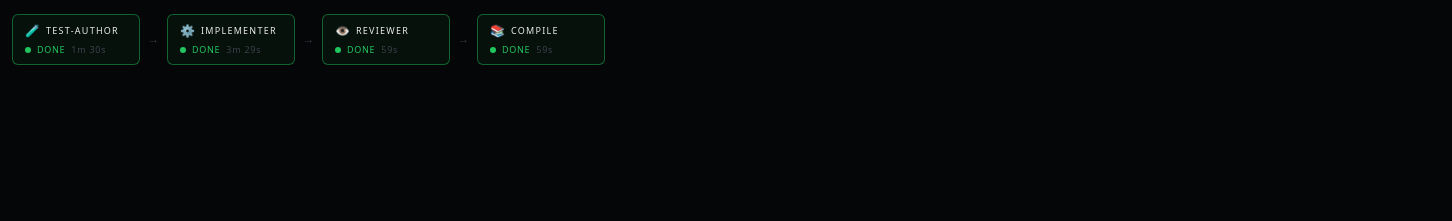
Test: StoryStagePipeline — audit tabs (B2) › implementer panel lists one row per attempt with commit/files/tokens
Click the text "Implementer": (239, 31) [201,24,277,38]
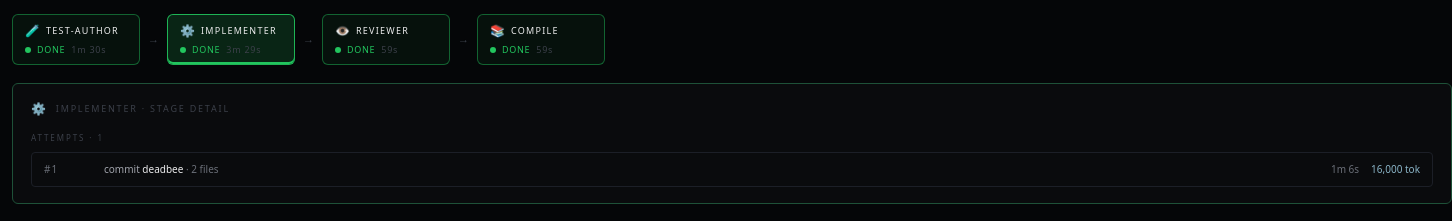
Now the element with test id "stage-panel-story-dev" shows "deadbee", box [142,162,183,176]
Now the element with test id "stage-panel-story-dev" shows "2 files", box [12,82,1451,204]
Now the element with test id "stage-panel-story-dev" shows "16,000 tok", box [1371,162,1420,176]
